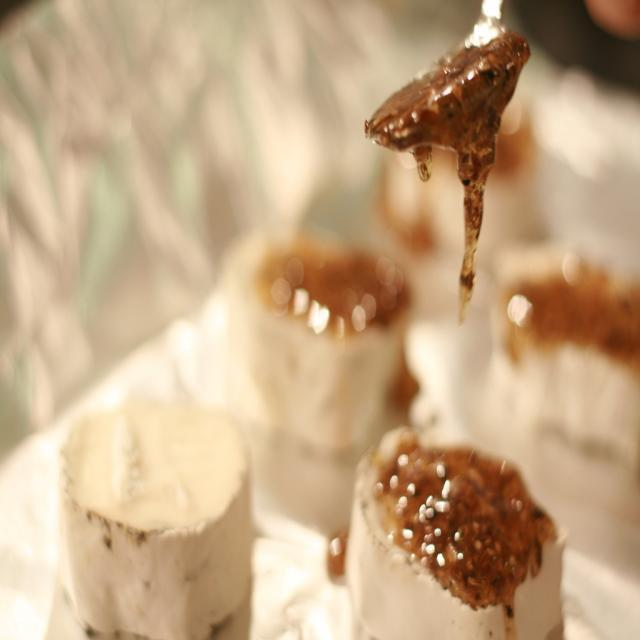Ice cream: (54, 383, 254, 639), (340, 418, 569, 640), (215, 218, 417, 468), (485, 230, 640, 481)
